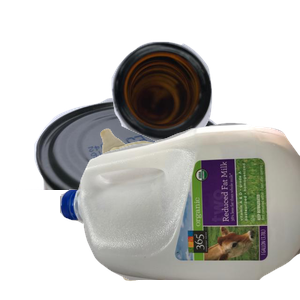glass: (109, 39, 300, 175)
metal: (16, 96, 244, 276)
plastic: (60, 120, 300, 300)
trash: (84, 126, 291, 300)
